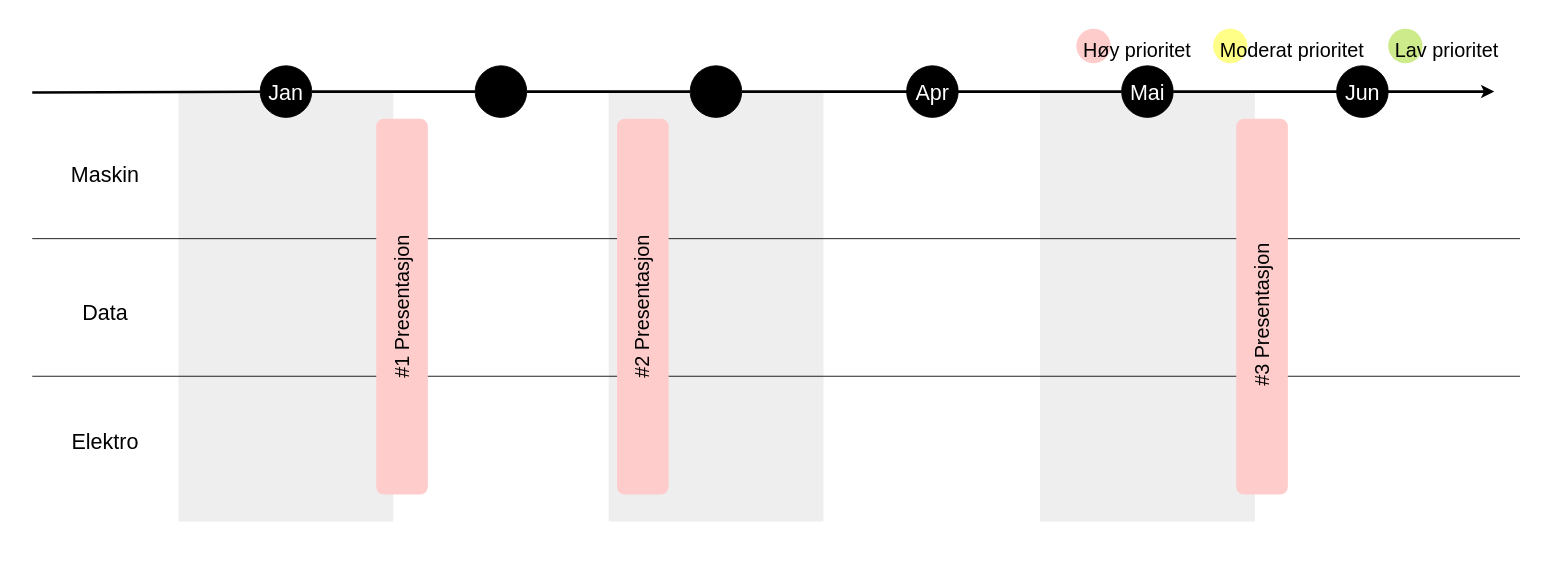
Image size: 1551x580. Some labels were removed from this diagram. Each missing label, with the box of its shape:
Feb: (474, 65, 527, 117)
Mar: (689, 65, 742, 117)
